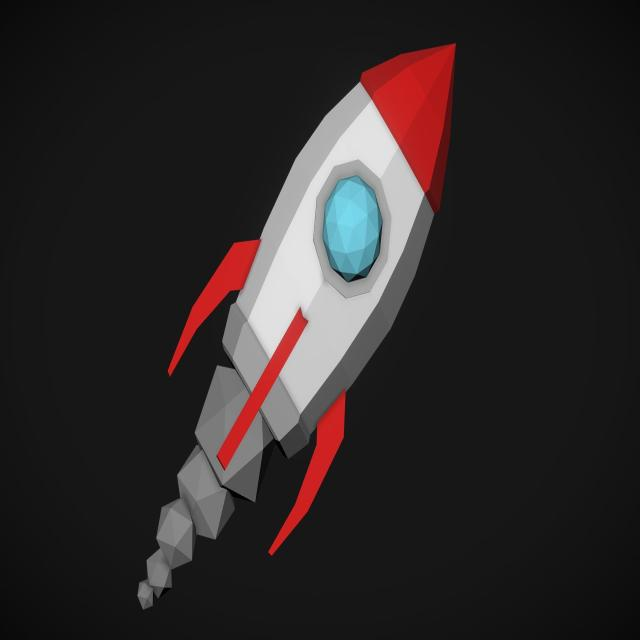rocket: (162, 29, 462, 570)
